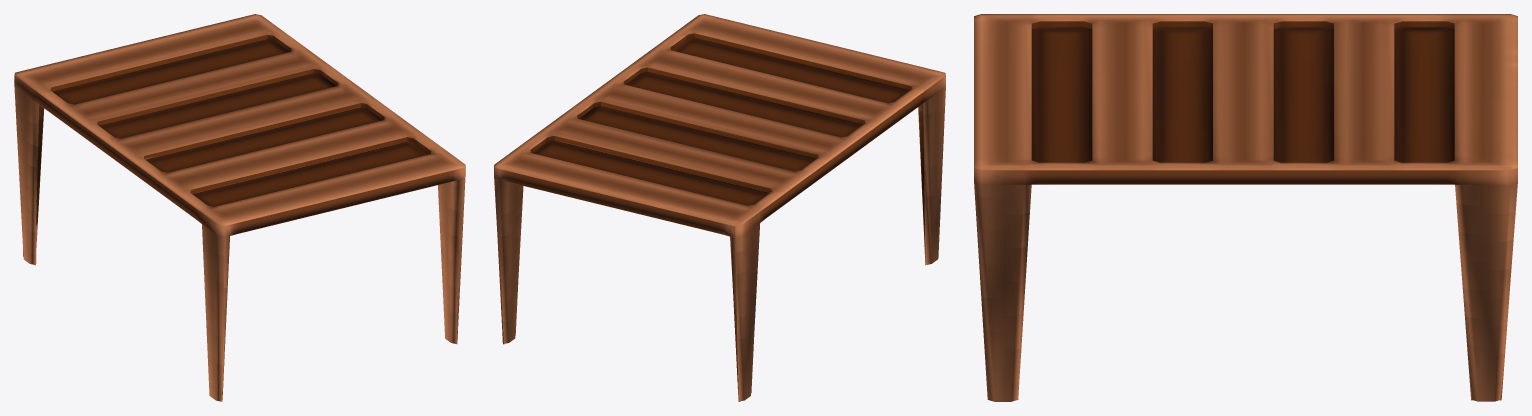
The model's file is firewoodtabfinal.fbx.
The picture shows the model from 3 angles, left to right: view 1: azimuth 30°, elevation 25°; view 2: azimuth 150°, elevation 25°; view 3: azimuth 270°, elevation 25°; orthographic projection. The views are drawn at different scales.
Parts seen in each view (by area): view 1: Cube.020; view 2: Cube.020; view 3: Cube.020.
Part boxes in pixels (x1,y1,x2,y2): Cube.020: (14,14,465,401); Cube.020: (494,14,945,401); Cube.020: (974,14,1517,401).
Size of the model in its own units: 352 by 246 by 518.
1 material, 1 textured.
